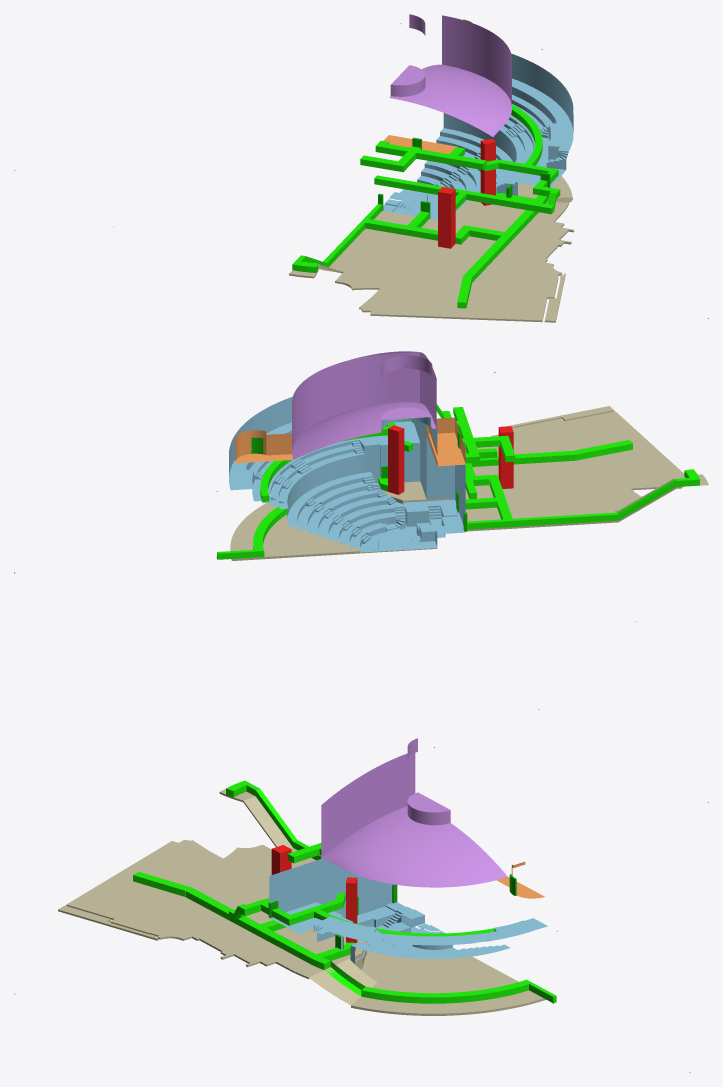
The model's file is EMICYCLE_COUPE.glb.
The picture shows the model from 3 angles, top to bottom: view 1: azimuth 30°, elevation 25°; view 2: azimuth 150°, elevation 25°; view 3: azimuth 270°, elevation 25°; orthographic projection. The views are drawn at different scales.
Visible parts, largest first — view 1: object 13, object 16, object 478, object 12, object 11, object 82, object 475, object 41, object 32, object 53, object 474, object 37 (+4 smaller); view 2: object 13, object 16, object 478, object 6, object 30, object 29, object 53, object 12, object 82, object 54, object 474, object 476 (+13 smaller); view 3: object 13, object 16, object 6, object 31, object 478, object 476, object 41, object 30, object 475, object 520, object 14, object 55 (+4 smaller).
Boxes of the visible parts, bbox=[...] form: object 13: bbox=[329, 200, 574, 322]; object 16: bbox=[389, 14, 511, 136]; object 478: bbox=[323, 193, 547, 308]; object 12: bbox=[360, 140, 486, 172]; object 11: bbox=[374, 175, 554, 214]; object 82: bbox=[511, 53, 573, 132]; object 475: bbox=[483, 104, 558, 183]; object 41: bbox=[512, 78, 573, 151]; object 32: bbox=[497, 115, 565, 187]; object 53: bbox=[443, 113, 516, 161]; object 474: bbox=[480, 138, 495, 205]; object 37: bbox=[383, 135, 457, 153]; object 13: bbox=[376, 411, 684, 531]; object 16: bbox=[292, 351, 436, 459]; object 478: bbox=[378, 440, 632, 529]; object 6: bbox=[230, 502, 437, 560]; object 30: bbox=[426, 436, 465, 537]; object 29: bbox=[235, 430, 293, 463]; object 53: bbox=[287, 454, 365, 517]; object 12: bbox=[453, 407, 515, 463]; object 82: bbox=[229, 396, 292, 475]; object 54: bbox=[270, 445, 364, 508]; object 474: bbox=[388, 425, 404, 494]; object 476: bbox=[217, 494, 322, 559]; object 13: bbox=[66, 839, 364, 978]; object 16: bbox=[321, 738, 507, 887]; object 6: bbox=[351, 952, 543, 1013]; object 31: bbox=[269, 857, 351, 941]; object 478: bbox=[133, 840, 355, 969]; object 476: bbox=[361, 979, 556, 1003]; object 41: bbox=[307, 916, 547, 942]; object 30: bbox=[352, 873, 404, 927]; object 475: bbox=[271, 893, 523, 936]; object 520: bbox=[309, 959, 376, 1005]; object 14: bbox=[243, 796, 292, 848]; object 55: bbox=[351, 942, 510, 958].
Size of the model in its own units: 64.64 by 21.3 by 70.12.
